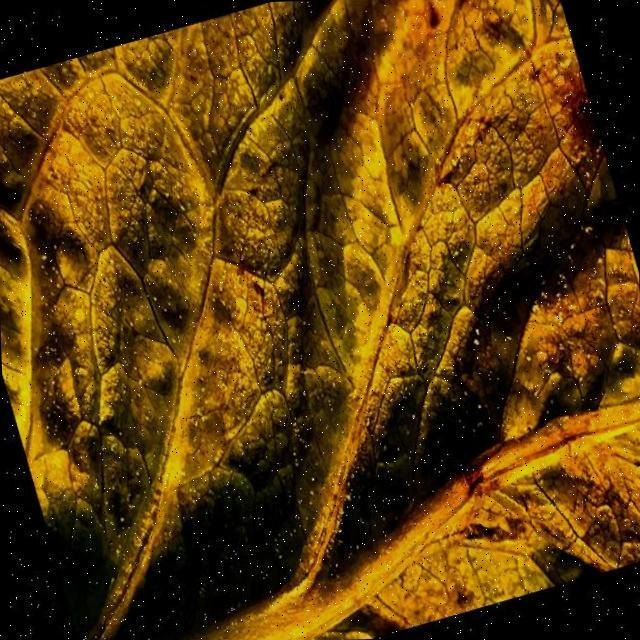Downy_Mildew: (51, 71, 390, 451)
